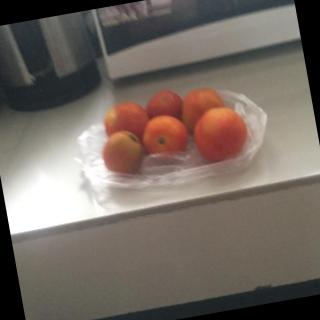Tomat: (91, 72, 256, 192)
